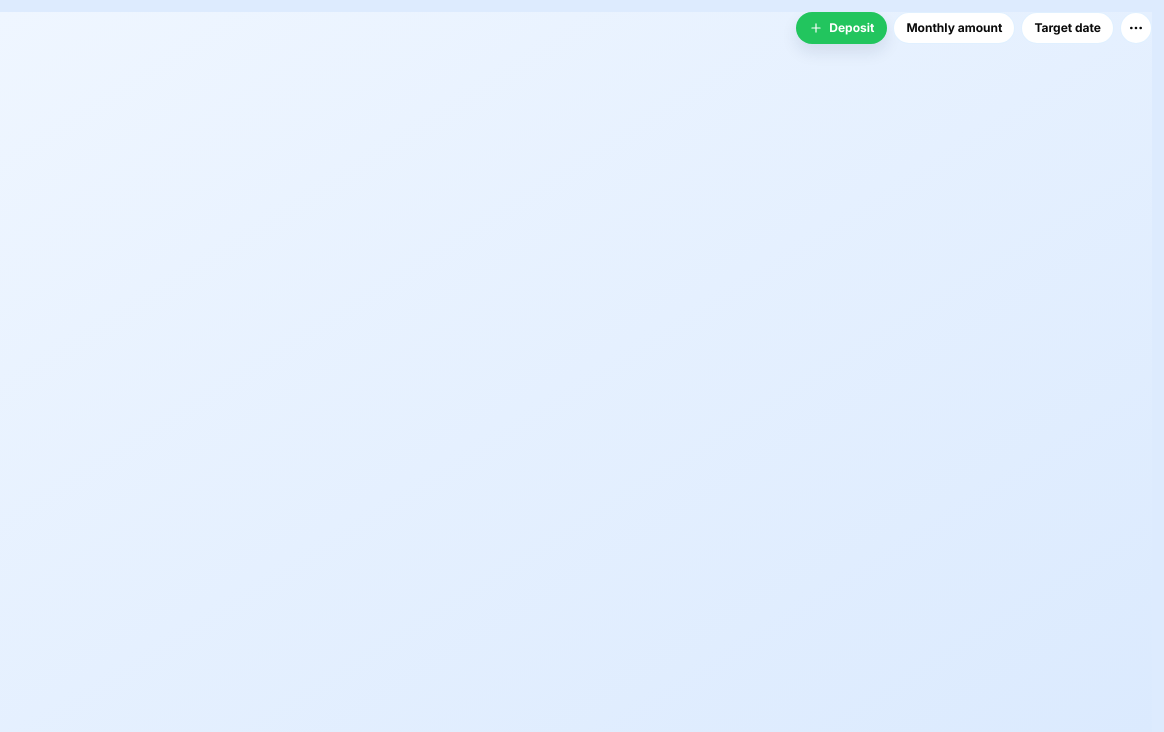
SavingsGoalActionRow › opens the kebab and chooses lifecycle actions
What coordinates should you click on to do the following:
click the button named "more"
I would click on:
 (1136, 28)
Its box is 1120,12 -> 1152,44.
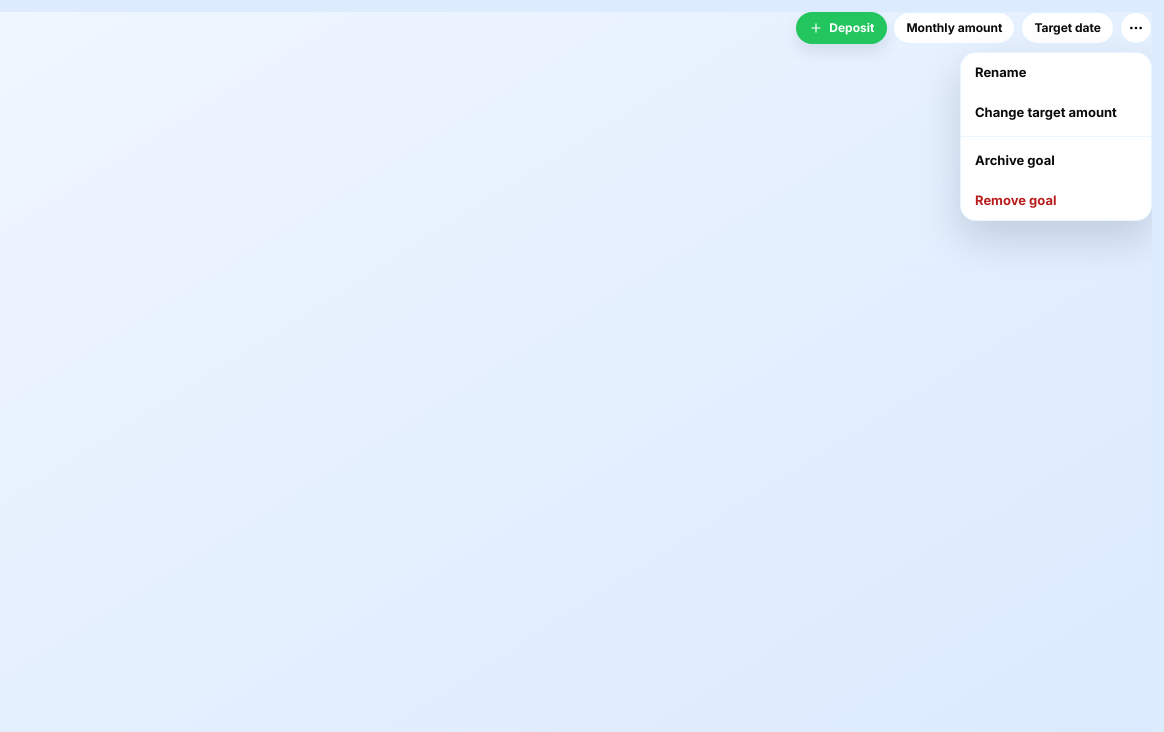
Check: the menu is shown, box 960,52 -> 1152,221
What coordinates should you click on to do the following:
click the menu item "Archive goal"
I would click on:
 (1056, 161)
Its box is 961,141 -> 1151,180.
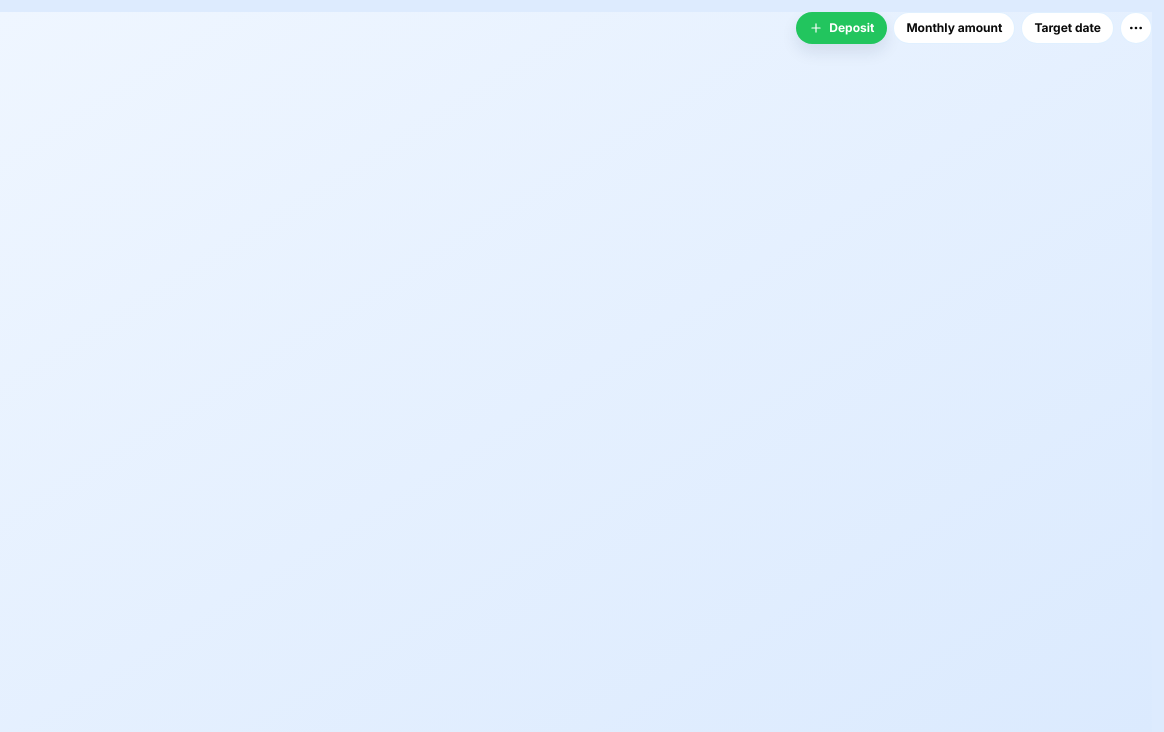
Check: the menu is gone
